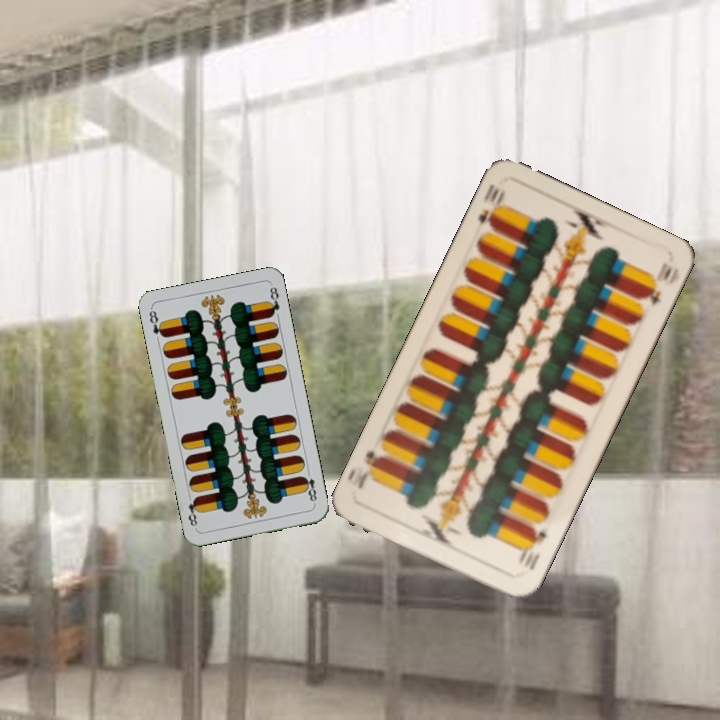E10: (474, 179, 508, 232), (514, 524, 549, 573)
E8: (299, 466, 319, 507), (145, 306, 167, 340)
